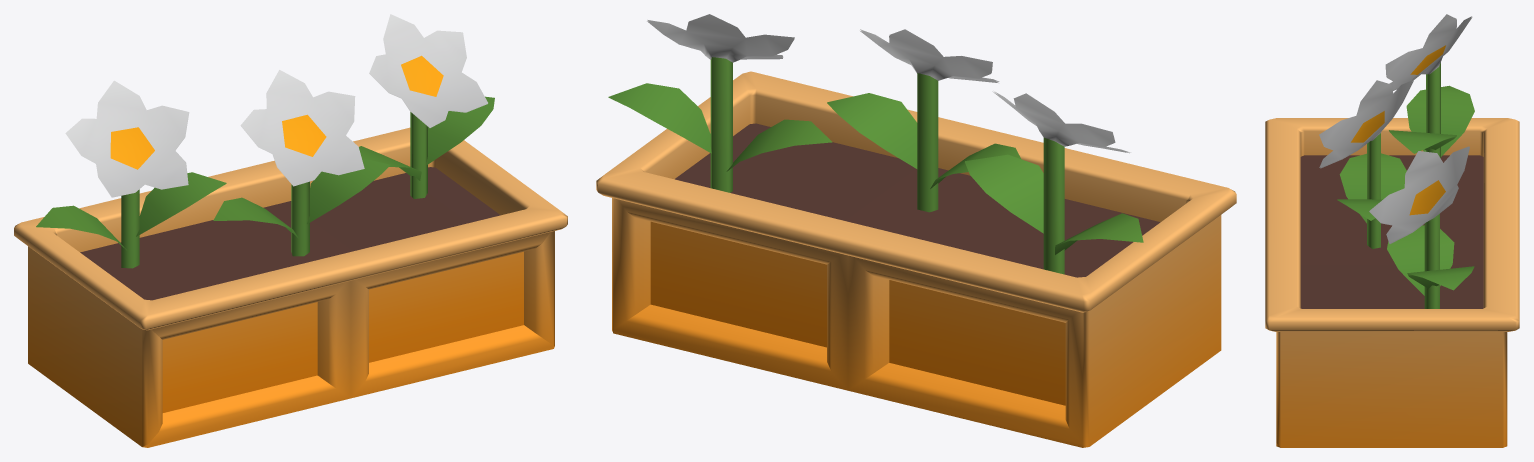
Rendered from Furniture_Vegetation_8.fbx.
3 views of the same model, side by side, from view 1: azimuth 30°, elevation 25°; view 2: azimuth 150°, elevation 25°; view 3: azimuth 270°, elevation 25° (orthographic). The views are drawn at different scales.
Visible parts, largest first — view 1: Furniture_Vegetation_8; view 2: Furniture_Vegetation_8; view 3: Furniture_Vegetation_8.
Boxes of the visible parts, x1,y1,x2,y2 form: Furniture_Vegetation_8: (14, 14, 567, 447); Furniture_Vegetation_8: (596, 14, 1236, 447); Furniture_Vegetation_8: (1265, 14, 1519, 447).
Size of the model in its own units: 167 by 96.12 by 82.01.
